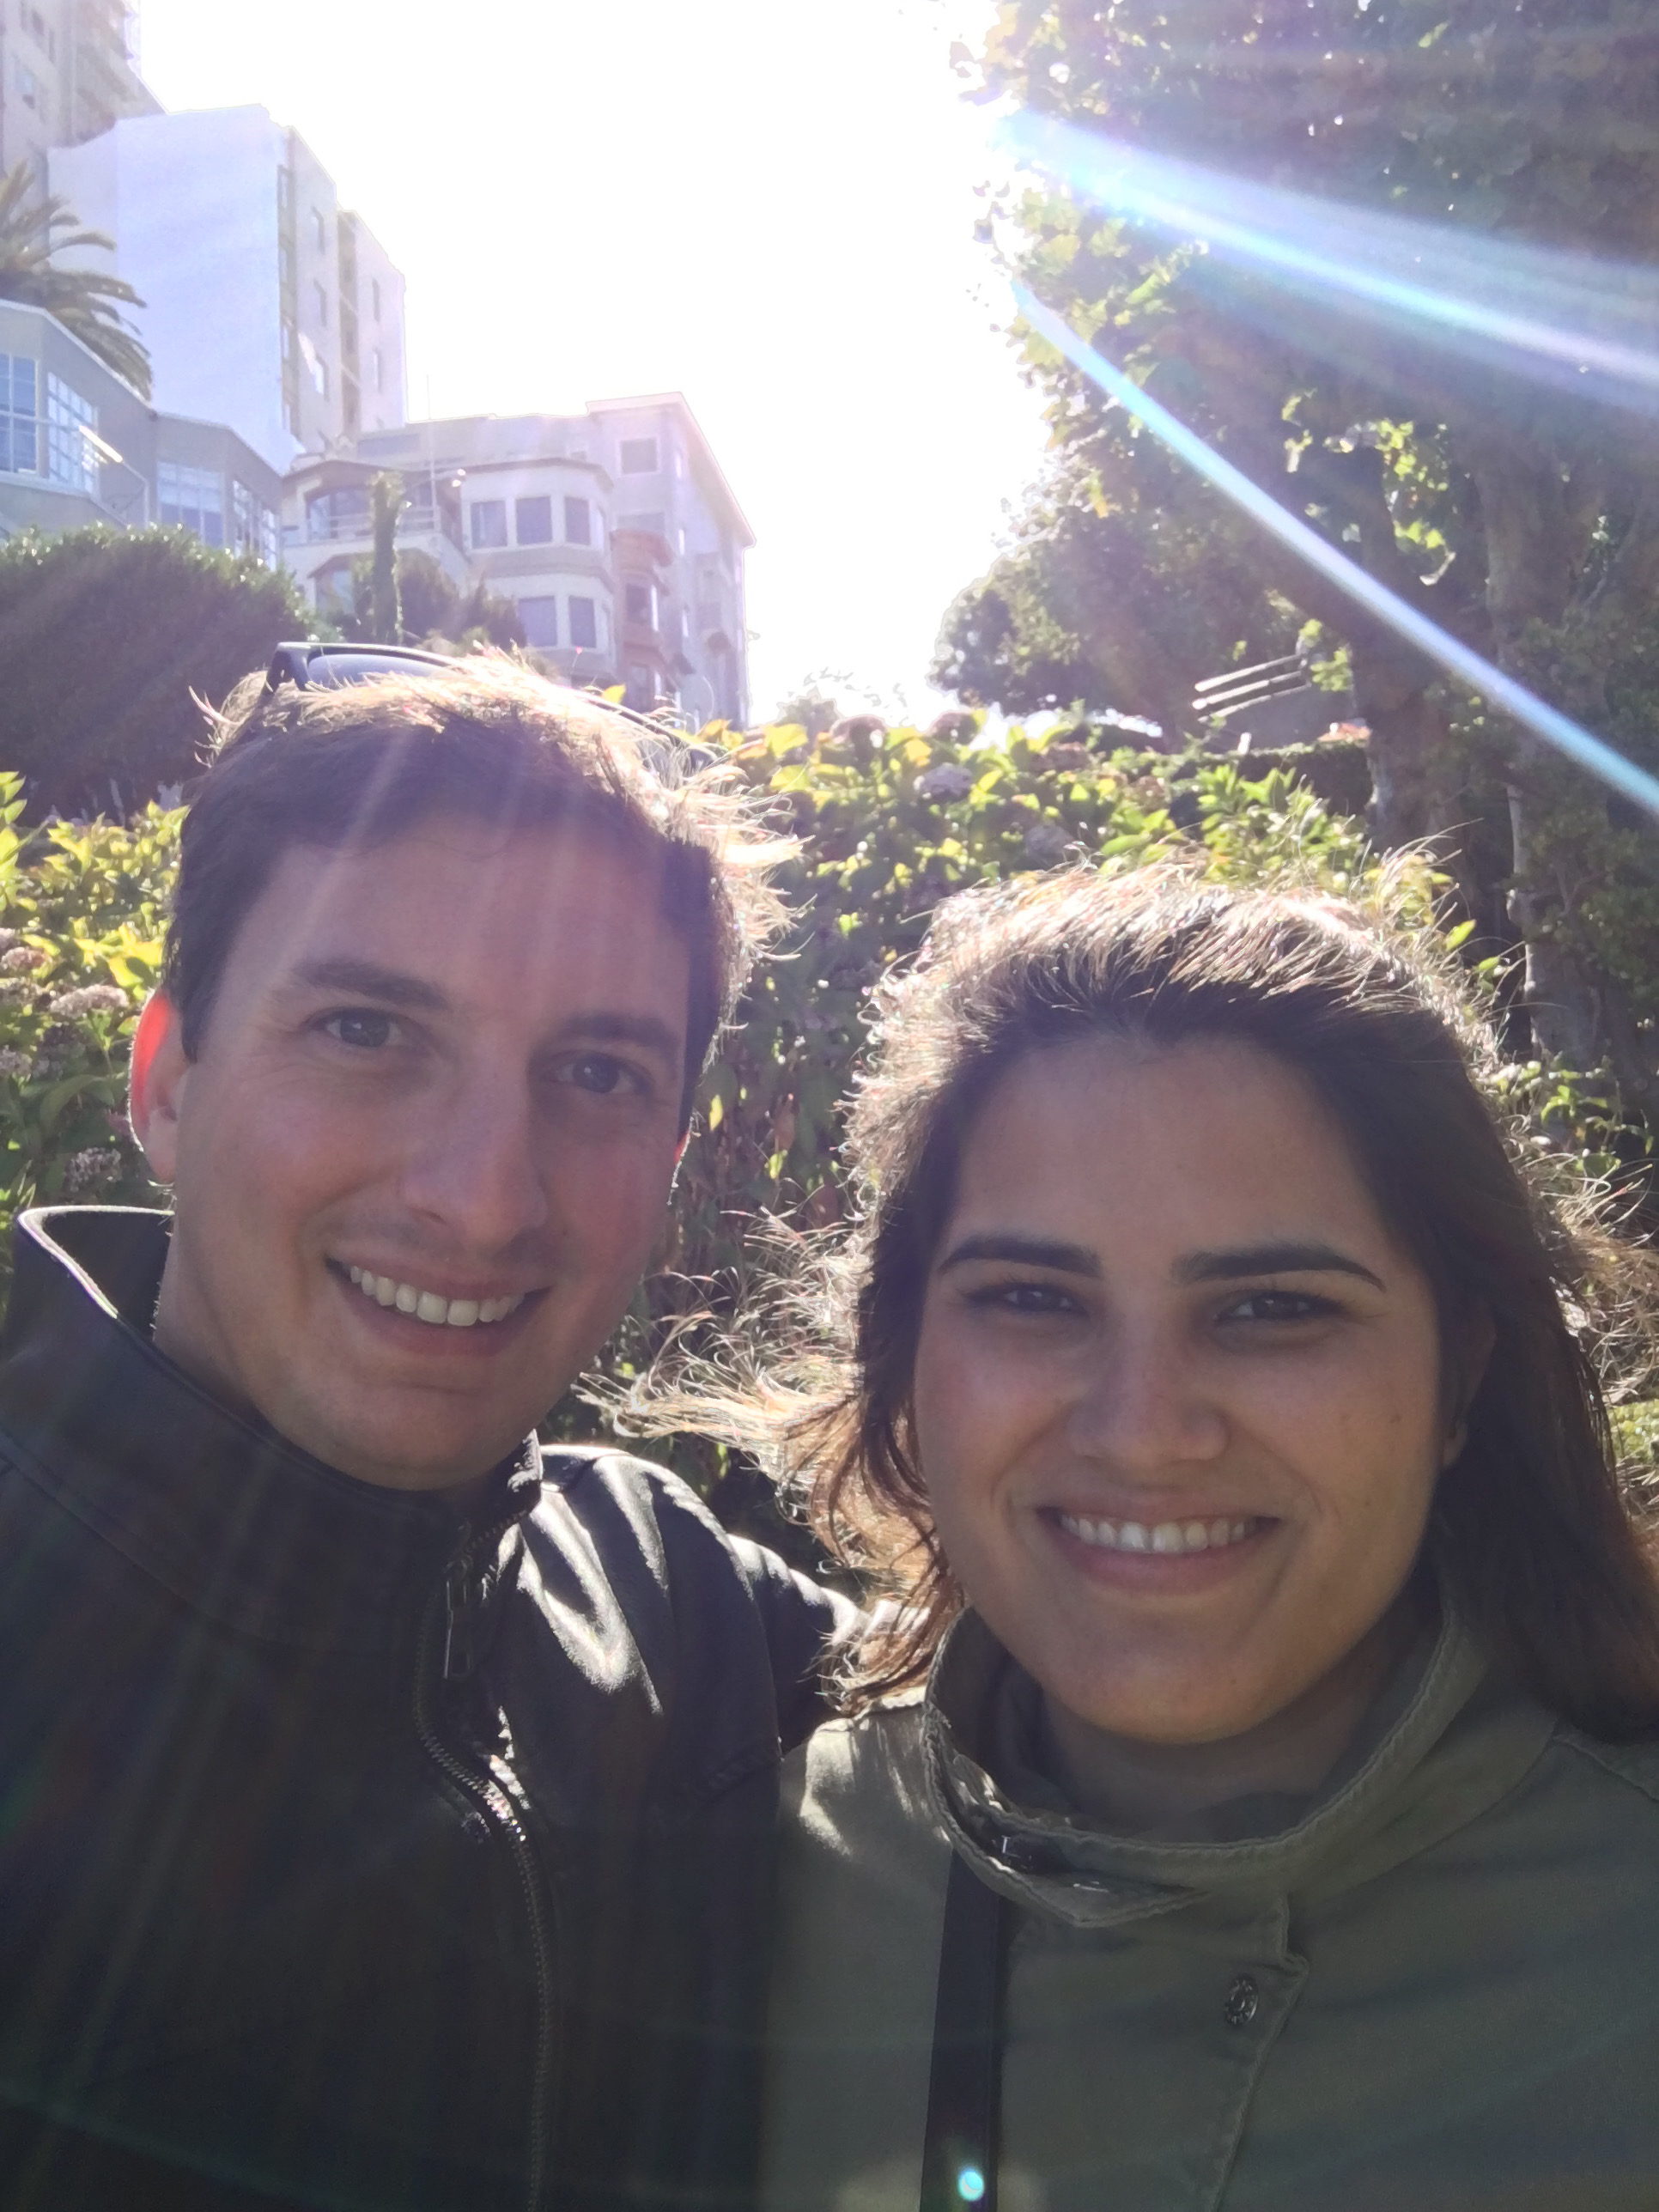flare: (955, 2165, 986, 2203)
